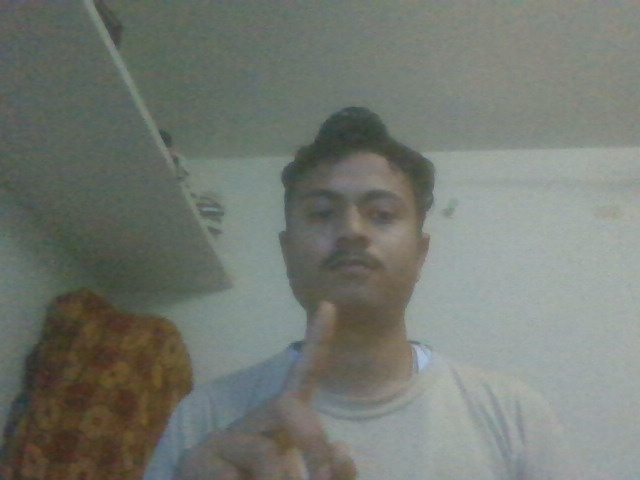No: (188, 304, 370, 480)
